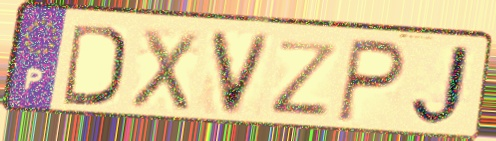D: (61, 20, 128, 109)
J: (408, 43, 480, 131)
P: (333, 36, 409, 127)
V: (206, 28, 276, 120)
X: (126, 25, 201, 115)
Z: (270, 38, 343, 118)
